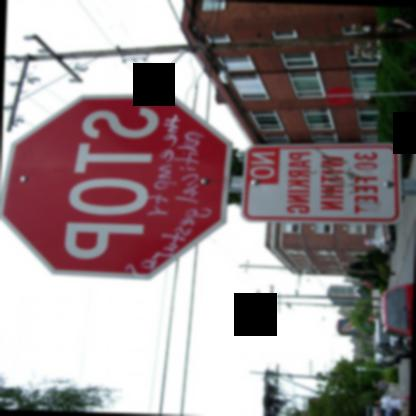handbag: (402, 394, 410, 399)
